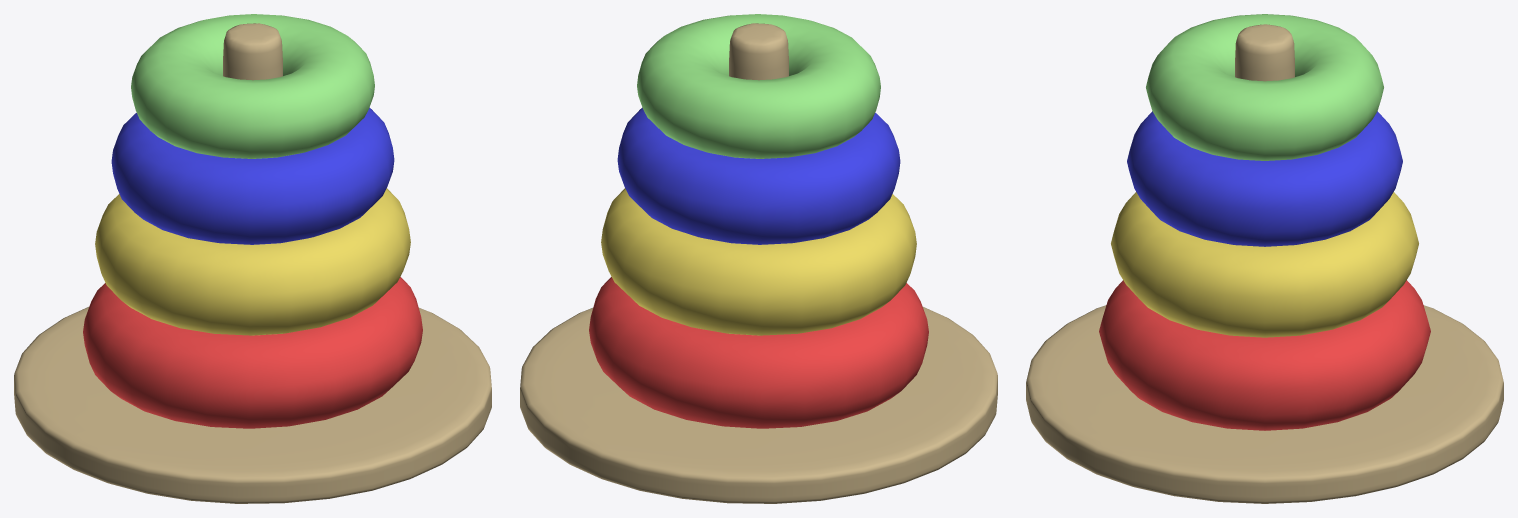
File: JugueteDonuts.fbx
The picture shows the model from 3 angles, left to right: view 1: azimuth 30°, elevation 25°; view 2: azimuth 150°, elevation 25°; view 3: azimuth 270°, elevation 25°; orthographic projection.
Visible parts, largest first — view 1: Donuts, Torus.006, Torus.001, Torus.003, Torus.002; view 2: Donuts, Torus.006, Torus.001, Torus.003, Torus.002; view 3: Donuts, Torus.006, Torus.001, Torus.003, Torus.002.
Boxes of the visible parts, x1=… form: Donuts: x1=14, y1=23, x2=491, y2=503; Torus.006: x1=83, y1=277, x2=422, y2=428; Torus.001: x1=95, y1=188, x2=410, y2=335; Torus.003: x1=131, y1=14, x2=374, y2=158; Torus.002: x1=111, y1=107, x2=394, y2=244; Donuts: x1=520, y1=23, x2=997, y2=503; Torus.006: x1=589, y1=277, x2=928, y2=428; Torus.001: x1=601, y1=188, x2=916, y2=335; Torus.003: x1=637, y1=14, x2=880, y2=158; Torus.002: x1=617, y1=107, x2=900, y2=244; Donuts: x1=1026, y1=24, x2=1503, y2=503; Torus.006: x1=1099, y1=280, x2=1430, y2=430; Torus.001: x1=1111, y1=192, x2=1418, y2=337; Torus.003: x1=1146, y1=14, x2=1383, y2=160; Torus.002: x1=1127, y1=111, x2=1402, y2=246.
Size of the model in its own units: 0.117 by 0.117 by 0.1008.
